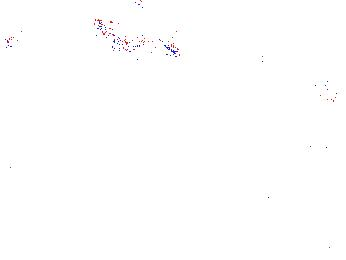red belly glassfish: (258, 53, 279, 76)
redtail glassfish: (90, 17, 179, 53), (110, 36, 183, 57), (303, 82, 346, 103), (3, 15, 23, 50)
